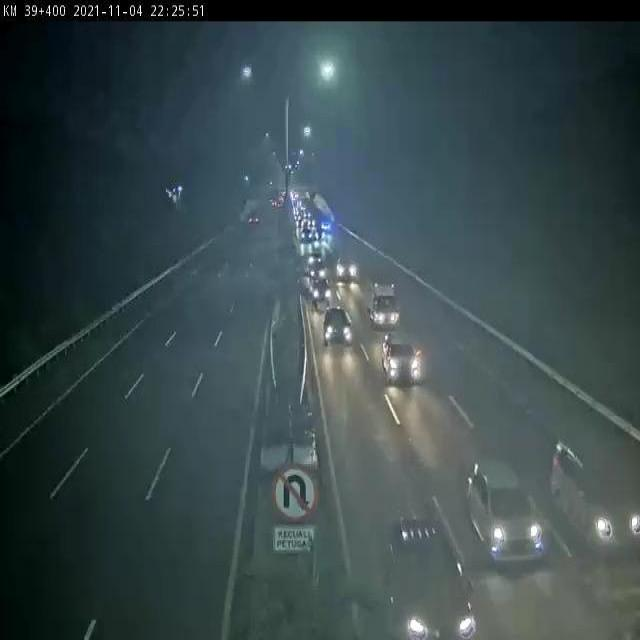car: (384, 512, 477, 640), (555, 428, 640, 557), (467, 458, 546, 562), (381, 329, 422, 387), (324, 301, 353, 344), (311, 274, 333, 310), (334, 252, 359, 283)
truck-s-: (366, 276, 400, 329)
